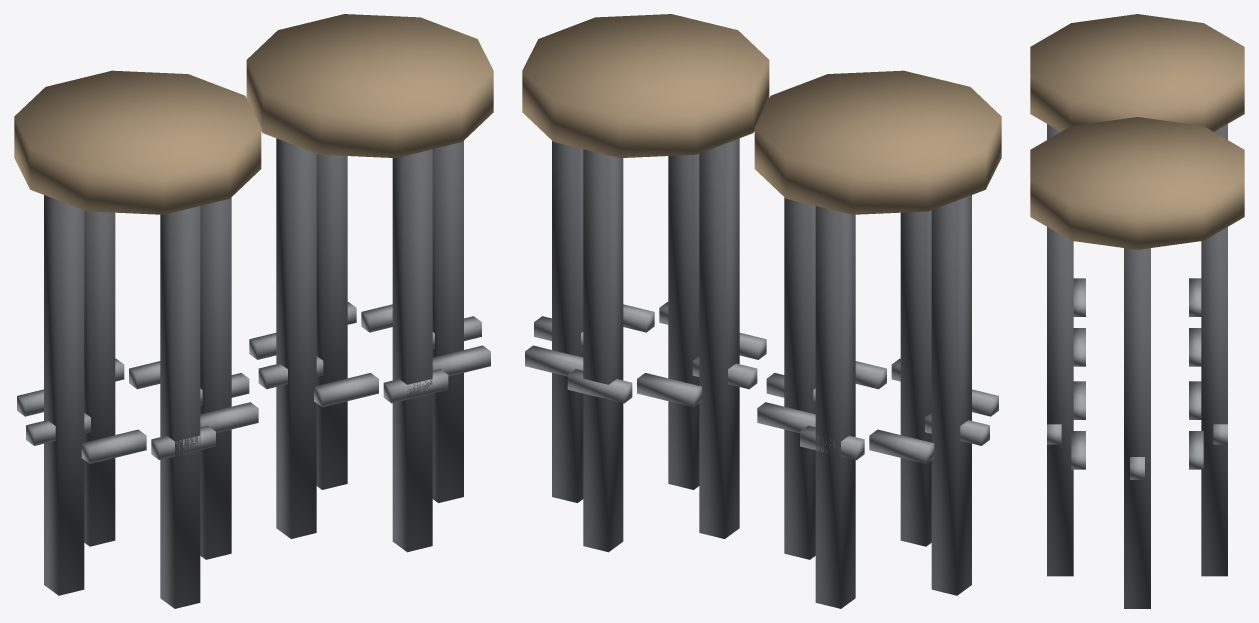
The model's file is medical_rolling_stool__cluster.glb.
3 views of the same model, side by side, from view 1: azimuth 30°, elevation 25°; view 2: azimuth 150°, elevation 25°; view 3: azimuth 270°, elevation 25° (orthographic). The views are drawn at different scales.
Parts seen in each view (by area): view 1: world; view 2: world; view 3: world.
Part boxes in pixels (box(x1,y1,x2,y2)): world: box(14, 14, 493, 608); world: box(522, 14, 1001, 608); world: box(1030, 14, 1244, 608).
Size of the model in its own units: 0.7904 by 0.755 by 0.3614.
